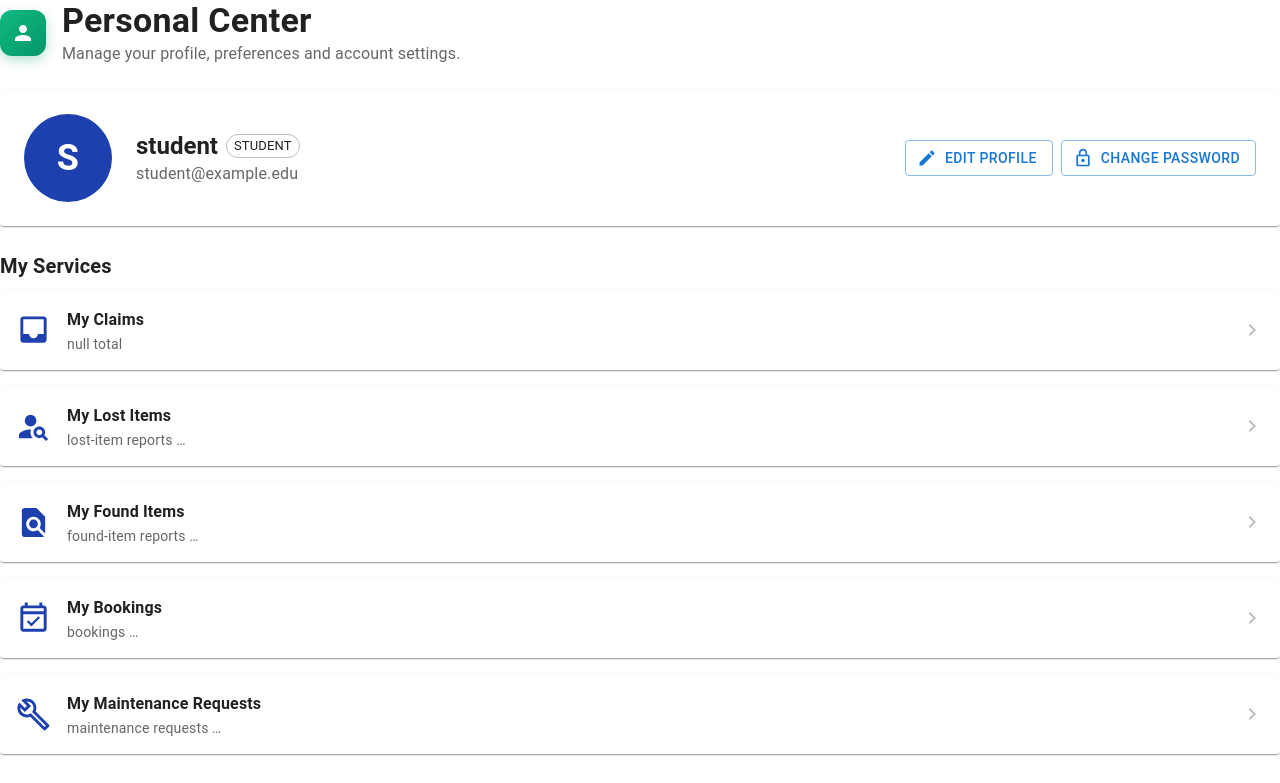
ProfilePage › rejects a password change when the current password is incorrect
Click the button "Change password" at (1158, 158), box [1061,140,1256,176]
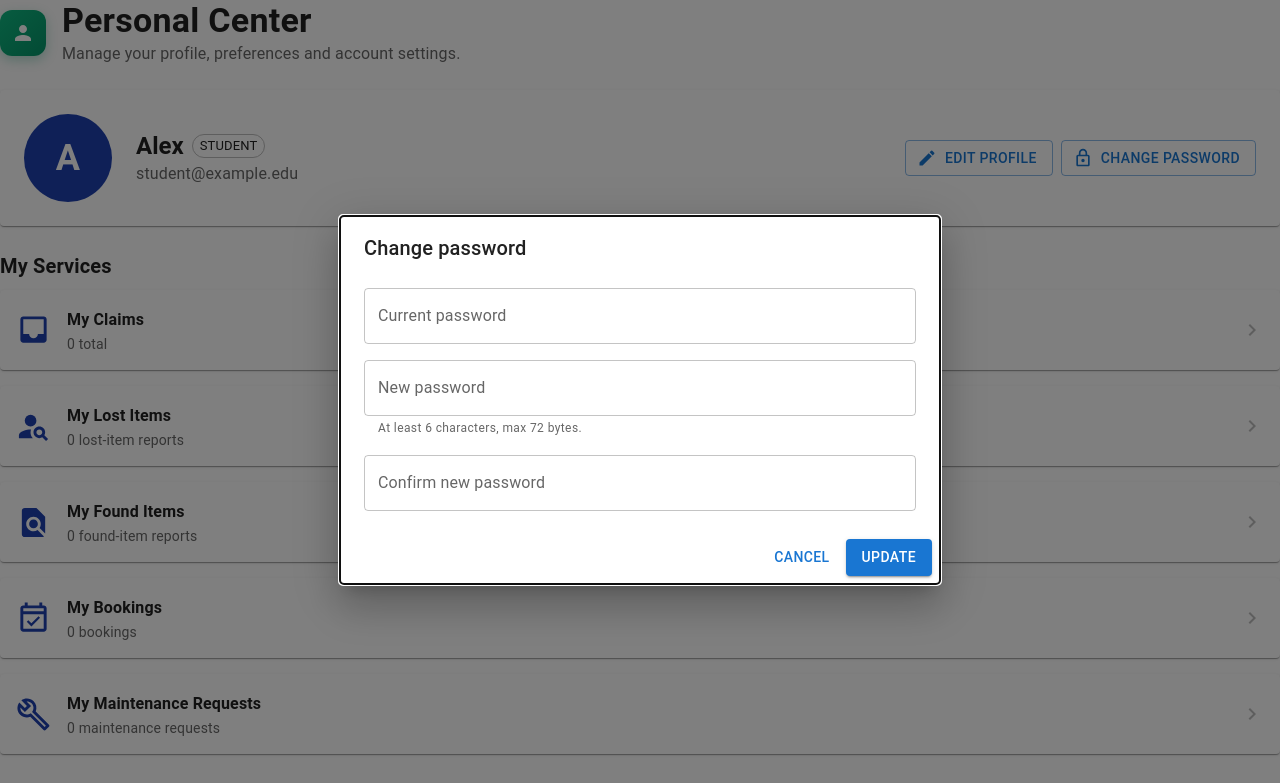
Type "wrong-pass" into the password field labelled "Current password" at (640, 316), box [364,288,916,344]
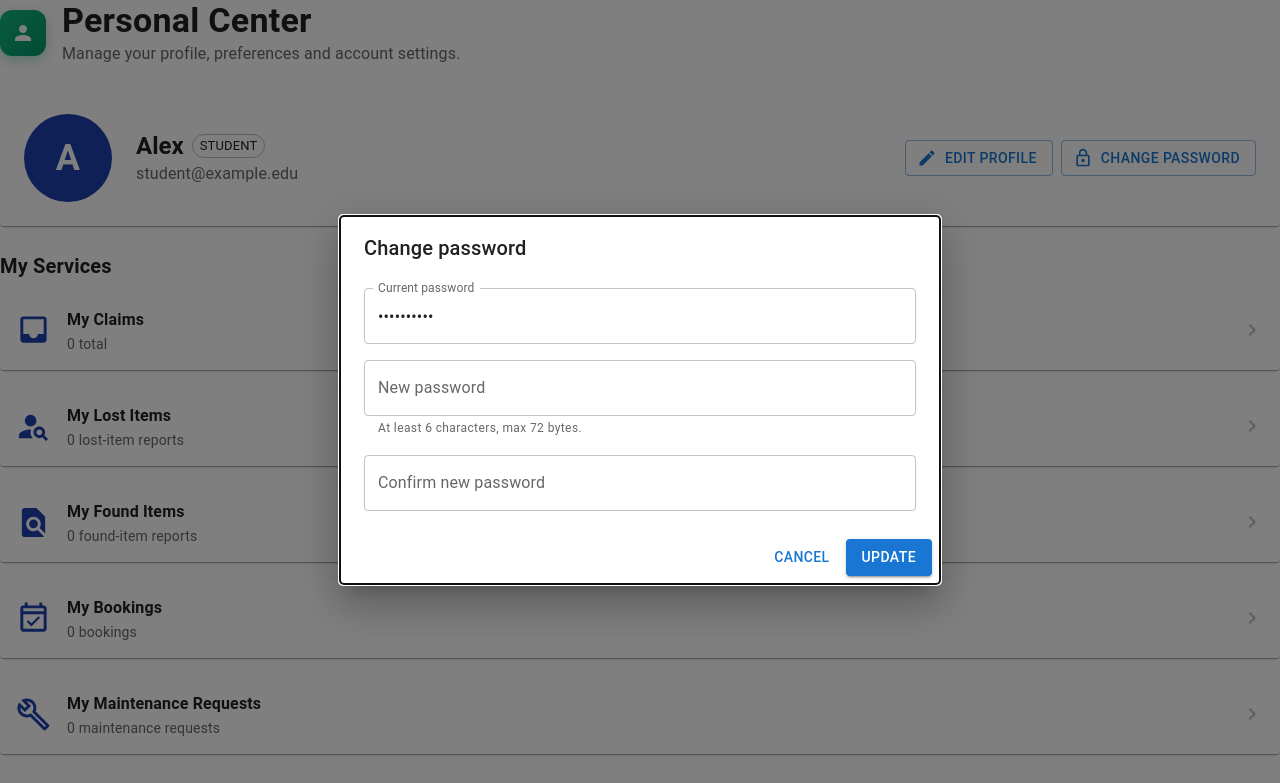
Type "new-pass-123" into the password field labelled "New password" at (640, 388), box [364,360,916,416]
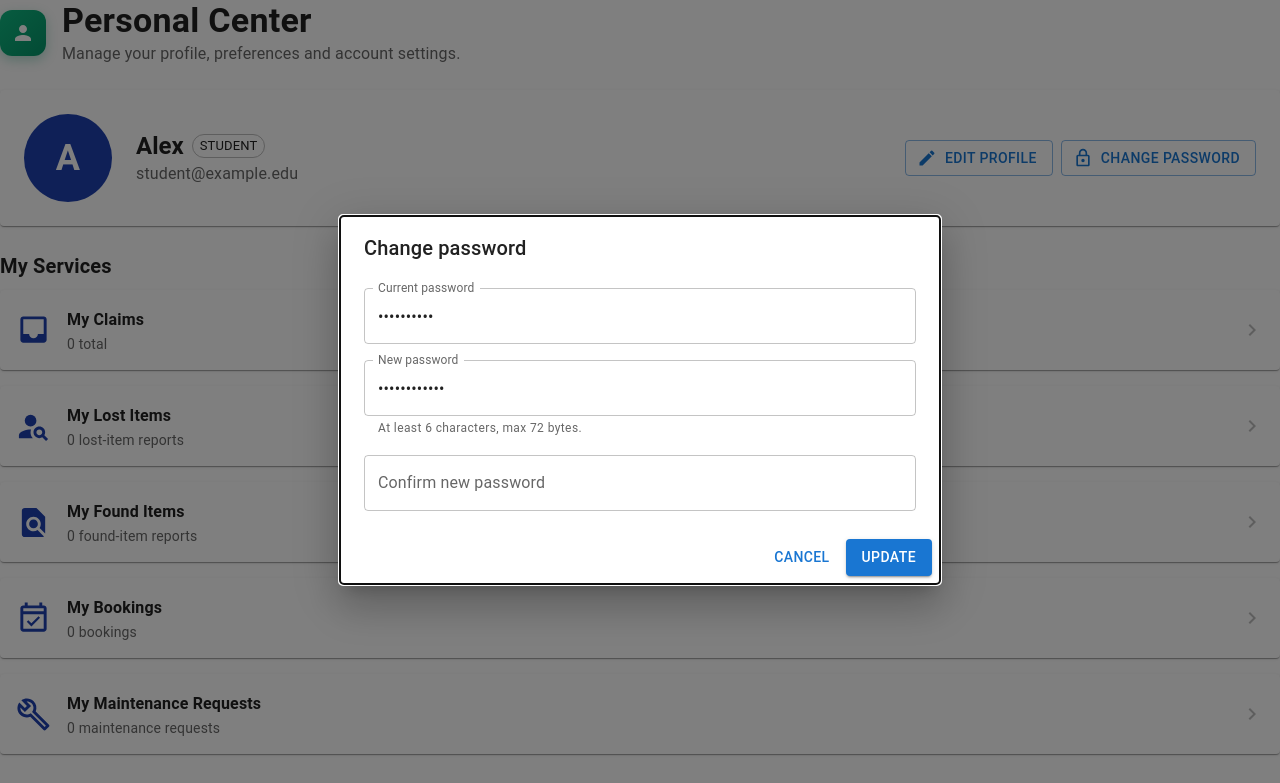
Type "new-pass-123" into the password field labelled "Confirm new password" at (640, 483), box [364,455,916,511]
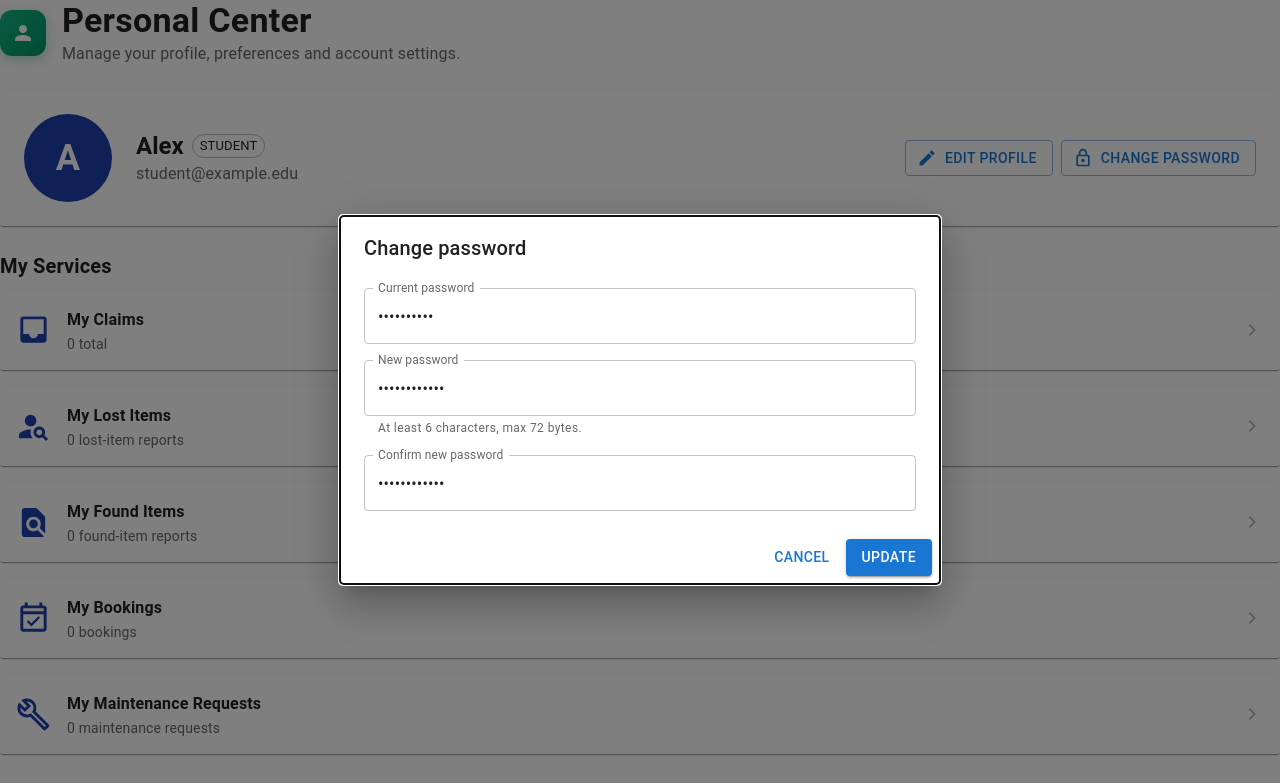
Click the button "Update" at (889, 557), box [846,539,932,576]
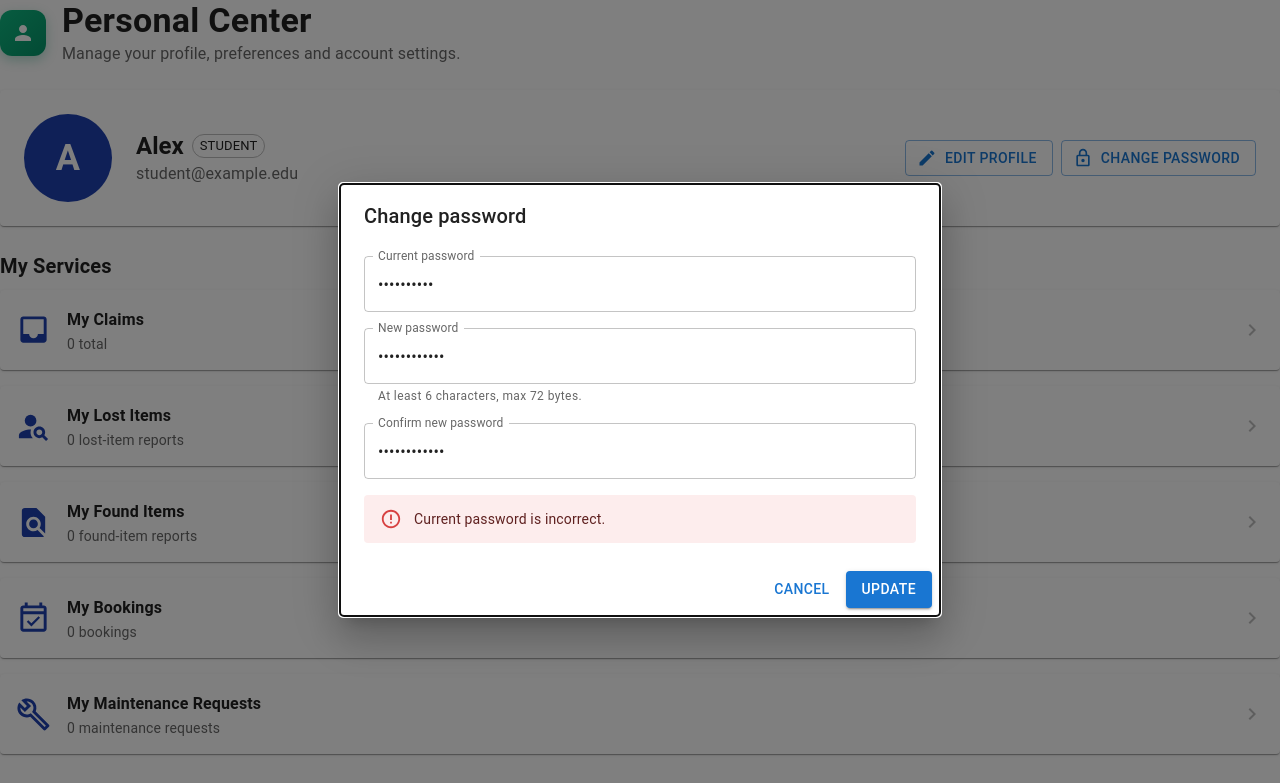
expect the text "Current password is incorrect." is shown: met, box [414,511,605,527]
